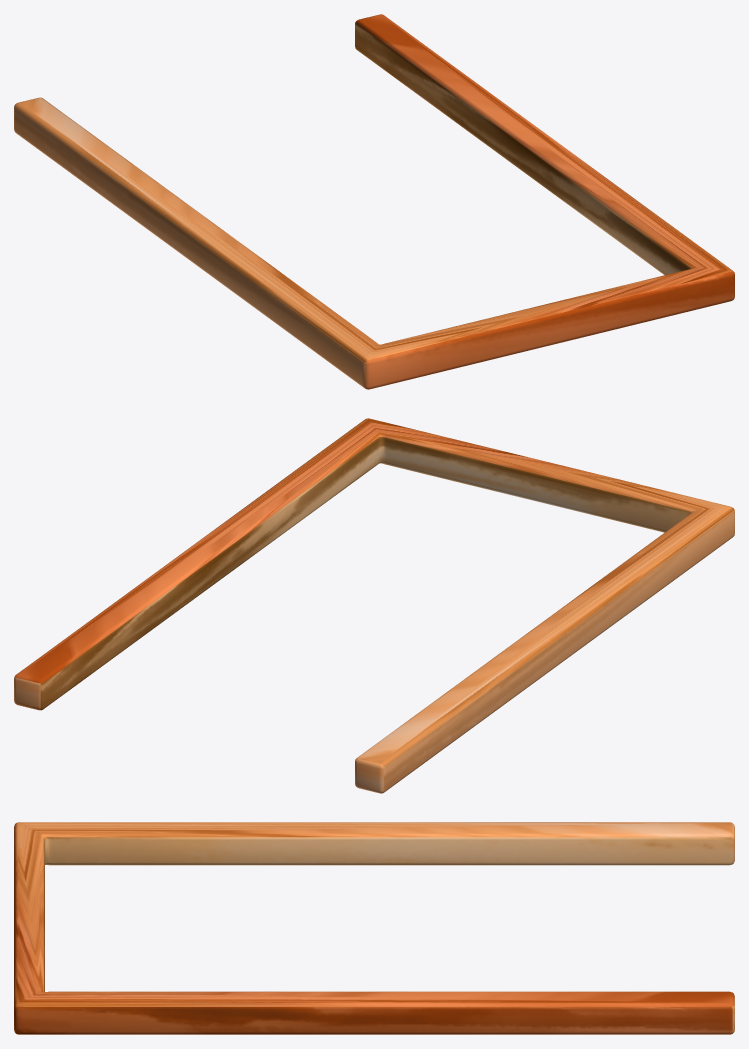
File: door_frame.fbx
3 renders of one model, top to bottom at view 1: azimuth 30°, elevation 25°; view 2: azimuth 150°, elevation 25°; view 3: azimuth 270°, elevation 25°, orthographic.
Visible parts, largest first — view 1: door_frame; view 2: door_frame; view 3: door_frame.
Part boxes in pixels (x1,y1,x2,y2): door_frame: (14, 14, 734, 389); door_frame: (14, 418, 734, 793); door_frame: (14, 822, 734, 1034).
Size of the model in its own units: 439 by 34.74 by 725.
